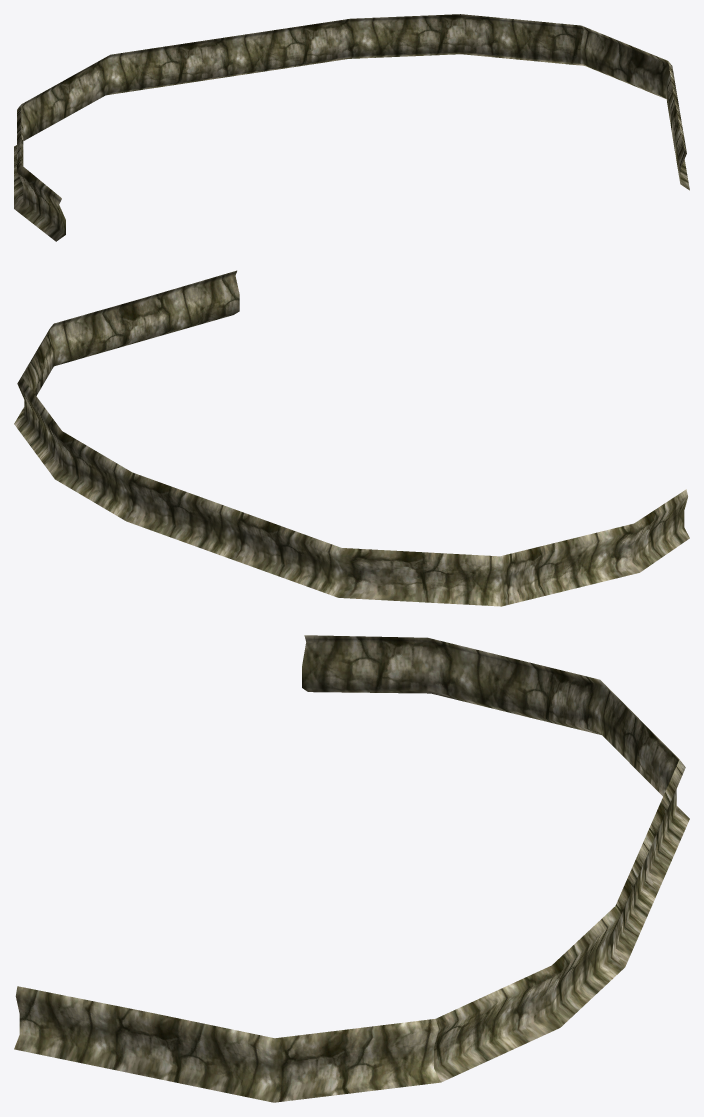
The model's file is CB_NEWPLAYSURFACE_CB_PLAYSURFACE125.fbx.
3 renders of one model, top to bottom at view 1: azimuth 30°, elevation 25°; view 2: azimuth 150°, elevation 25°; view 3: azimuth 270°, elevation 25°, orthographic. The views are drawn at different scales.
Visible parts, largest first — view 1: CB_NEWPLAYSURFACE_CB_PLAYSURFACE125; view 2: CB_NEWPLAYSURFACE_CB_PLAYSURFACE125; view 3: CB_NEWPLAYSURFACE_CB_PLAYSURFACE125.
Boxes of the visible parts, x1,y1,x2,y2 form: CB_NEWPLAYSURFACE_CB_PLAYSURFACE125: (14,14,689,241); CB_NEWPLAYSURFACE_CB_PLAYSURFACE125: (14,270,689,606); CB_NEWPLAYSURFACE_CB_PLAYSURFACE125: (14,635,689,1102).
Bounding box in the file's own units: 433665 × 29557 × 301688.
Materials: 1 (1 with a texture image).
